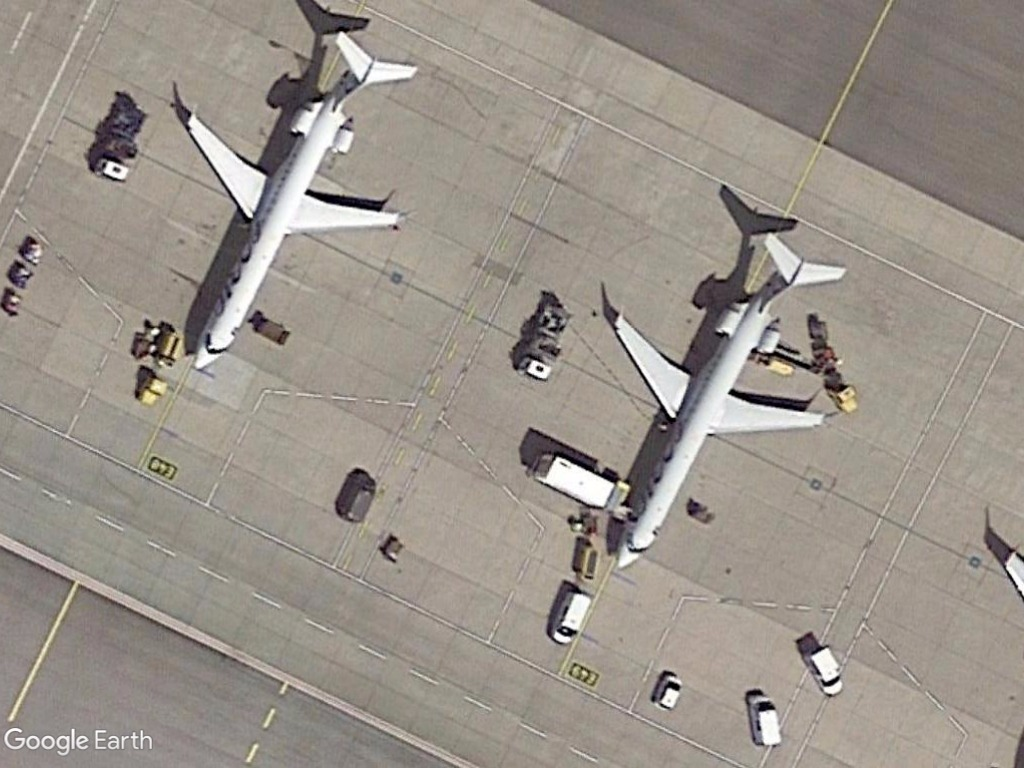chartered: (591, 229, 852, 574), (182, 30, 420, 372)
van: (547, 587, 598, 645), (801, 641, 847, 702), (745, 688, 785, 748), (651, 672, 684, 712)
